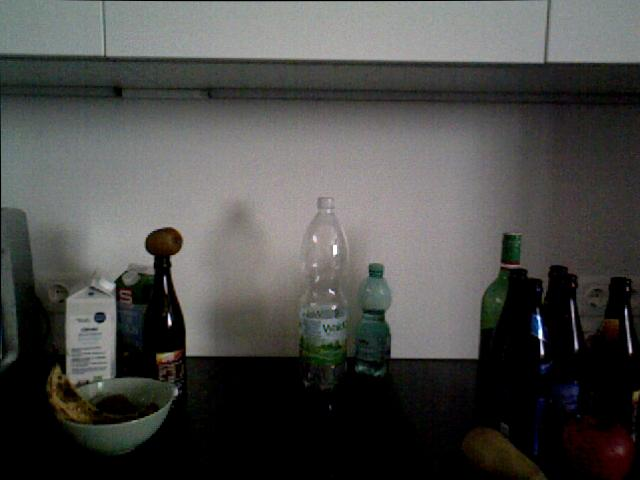bench: (476, 229, 536, 416), (297, 196, 352, 393), (588, 273, 639, 470), (508, 276, 557, 471), (492, 264, 544, 434), (59, 268, 122, 400), (545, 273, 587, 470), (539, 261, 580, 457), (113, 259, 165, 396), (141, 251, 187, 405), (354, 262, 392, 377)
bicycle: (558, 422, 637, 480)
bird: (54, 376, 175, 456)
motorcycle: (42, 364, 152, 434)
